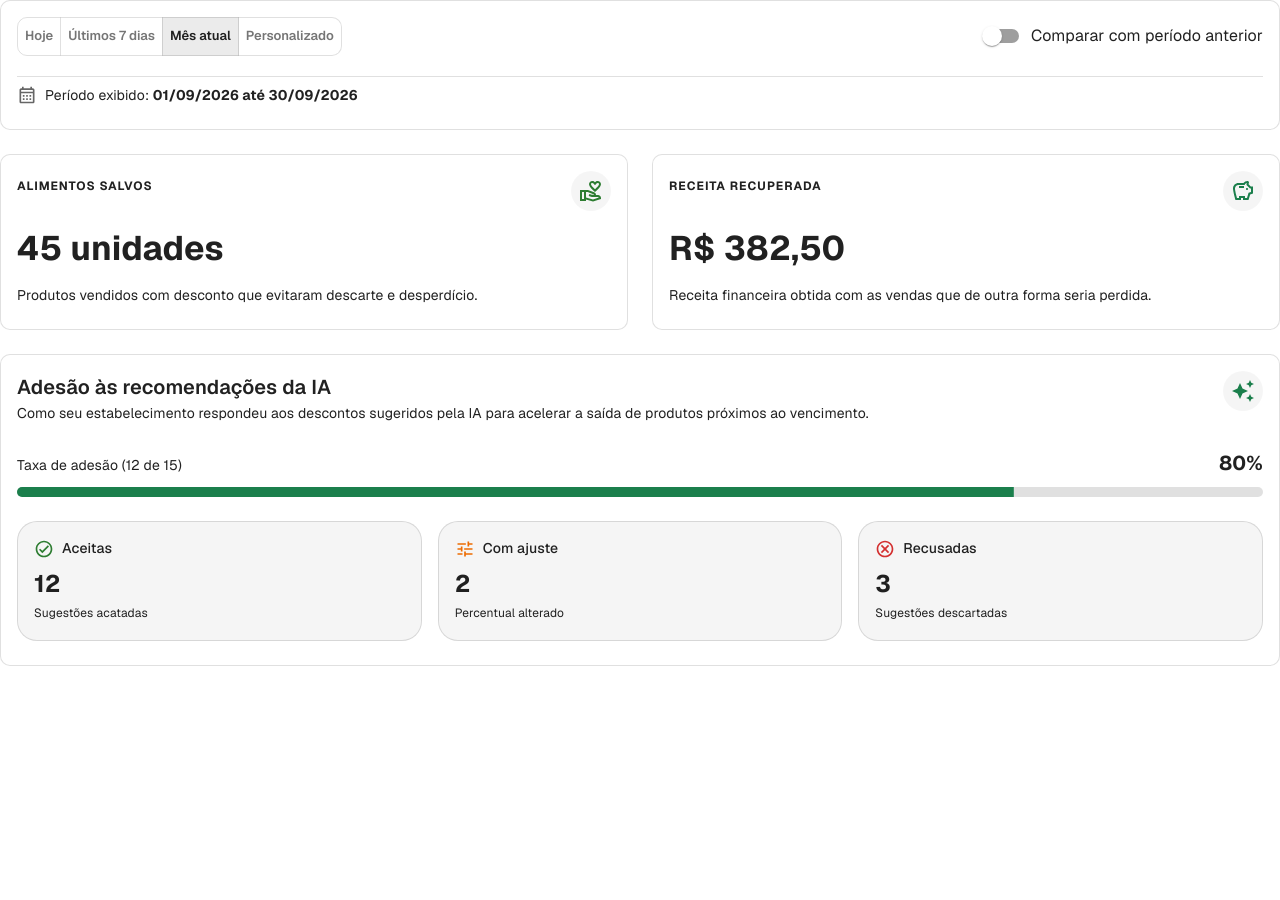
Test case: IndicatorsDashboard › enables comparison and displays variation chips and previous period
Expected: the text "Alimentos Salvos" is shown, [17,178,153,194]
Click the switch labelled "Comparar com período anterior". click: [1122, 36]
box: [982,25,1263,46]
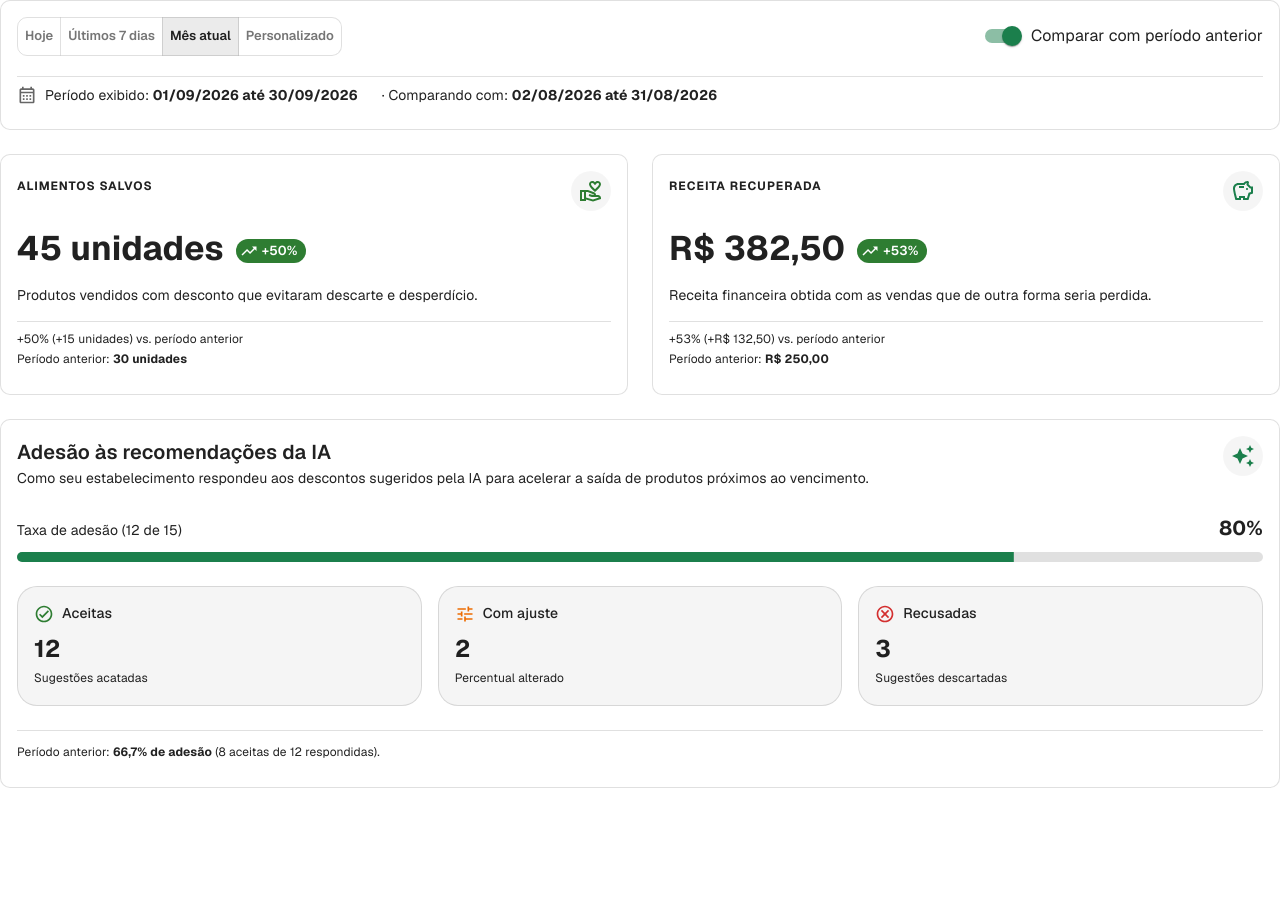
Result: the text "+50% (+15 unidades) vs. período anterior" is shown at [17,331,244,347]
Result: the text "30 unidades" is shown at [113,351,187,367]
